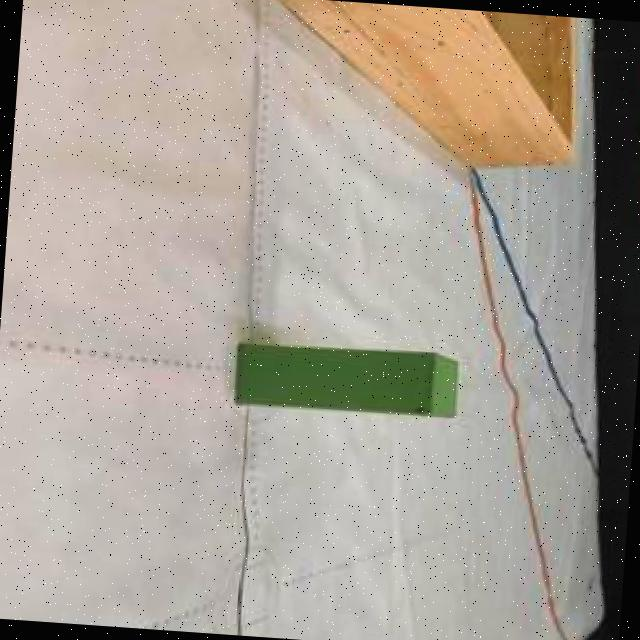greenbox: (230, 334, 464, 423)
